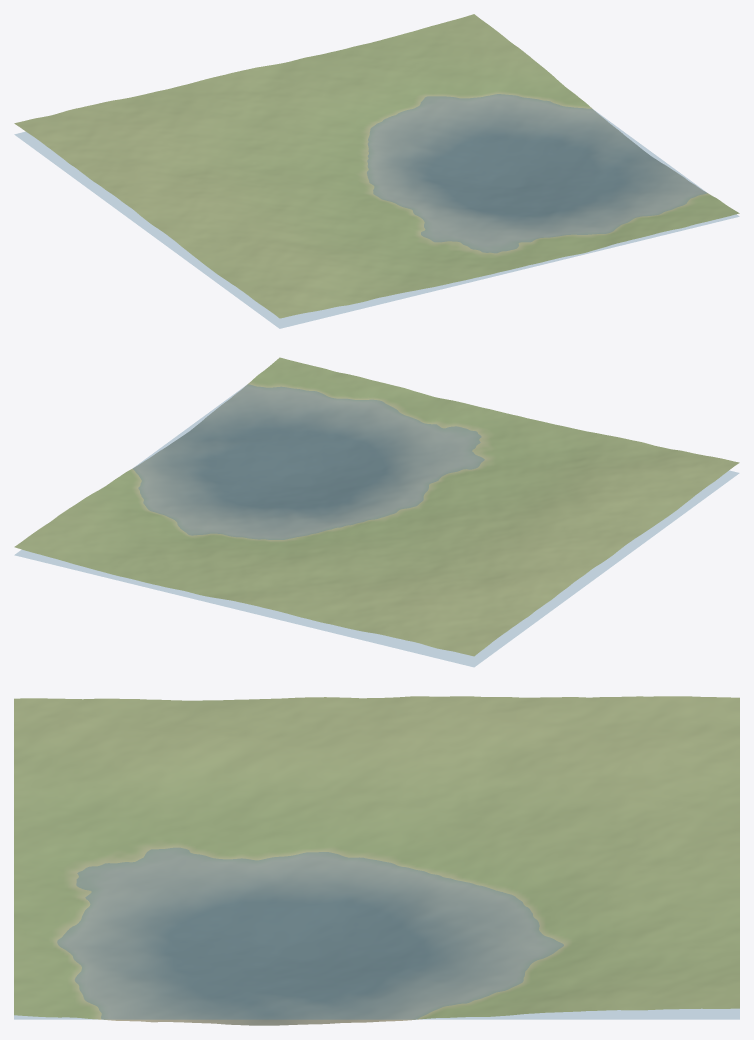
Rendered from a-hilly-neighborhood-ocean-shore.glb.
3 renders of one model, top to bottom at view 1: azimuth 30°, elevation 25°; view 2: azimuth 150°, elevation 25°; view 3: azimuth 270°, elevation 25°, orthographic. The views are drawn at different scales.
Parts seen in each view (by area): view 1: Terrain, Water; view 2: Terrain, Water; view 3: Terrain, Water.
Part boxes in pixels (box(x1,y1,x2,y2)): Terrain: box(14, 14, 739, 318); Water: box(14, 94, 739, 328); Terrain: box(14, 357, 739, 656); Water: box(15, 384, 738, 666); Terrain: box(14, 696, 739, 1025); Water: box(14, 848, 739, 1019).
Size of the model in its own units: 400 by 20 by 400.
